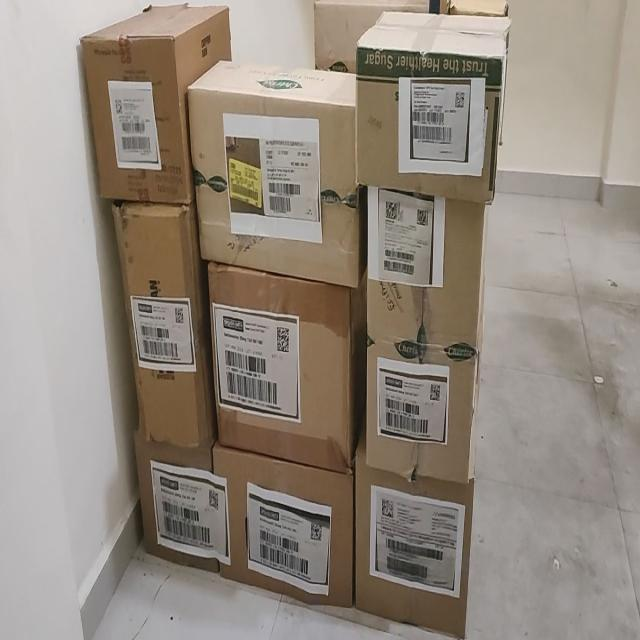BoxFace: (188, 85, 362, 289), (364, 194, 486, 484), (206, 260, 360, 471), (110, 200, 214, 448), (354, 42, 511, 205), (212, 437, 354, 608), (355, 445, 475, 637), (78, 26, 186, 206), (132, 426, 230, 570)
